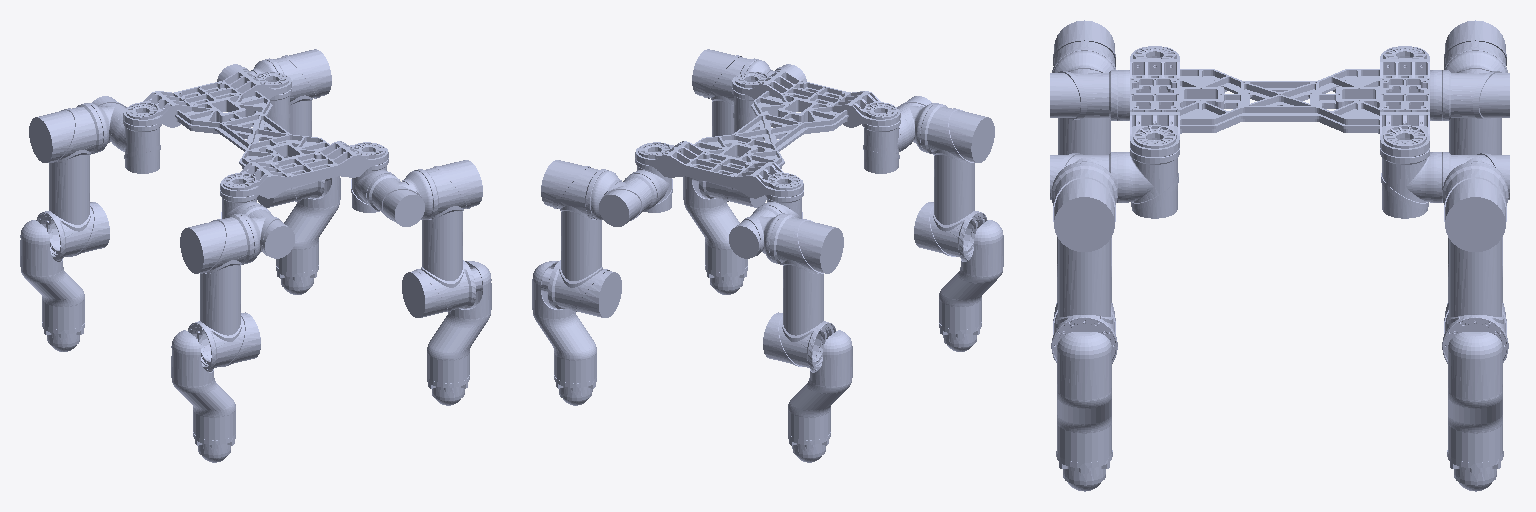
The robot description file, URDF, robot "quadruped126":
<robot
  name="quadruped126">
  <link
    name="base_link">
    <inertial>
      <origin
        xyz="8.0205569429892E-06 5.26164614779445E-06 -0.0117536741870582"
        rpy="0 0 0" />
      <mass
        value="1.0967850842884" />
      <inertia
        ixx="0.03222337128397"
        ixy="6.95895978629379E-07"
        ixz="2.73640904079557E-08"
        iyy="0.00867472819211394"
        iyz="1.20297090374644E-07"
        izz="0.0407340457914462" />
    </inertial>
    <visual>
      <origin
        xyz="0 0 0"
        rpy="0 0 0" />
      <geometry>
        <mesh
          filename="package://quadruped126/meshes/base_link.STL" />
      </geometry>
      <material
        name="">
        <color
          rgba="0.792156862745098 0.819607843137255 0.933333333333333 1" />
      </material>
    </visual>
    <collision>
      <origin
        xyz="0 0 0"
        rpy="0 0 0" />
      <geometry>
        <mesh
          filename="package://quadruped126/meshes/base_link.STL" />
      </geometry>
    </collision>
  </link>
  <link
    name="leg1_1">
    <inertial>
      <origin
        xyz="-9.23209685999016E-06 -0.0110295937744908 0.00343371107754448"
        rpy="0 0 0" />
      <mass
        value="0.136916843168961" />
      <inertia
        ixx="0.000229388412602637"
        ixy="-3.46718755959948E-08"
        ixz="-4.50241112988627E-09"
        iyy="0.000216643146747715"
        iyz="-6.85902650915644E-06"
        izz="0.000193488021134694" />
    </inertial>
    <visual>
      <origin
        xyz="0 0 0"
        rpy="0 0 0" />
      <geometry>
        <mesh
          filename="package://quadruped126/meshes/leg1_1.STL" />
      </geometry>
      <material
        name="">
        <color
          rgba="0.792156862745098 0.819607843137255 0.933333333333333 1" />
      </material>
    </visual>
    <collision>
      <origin
        xyz="0 0 0"
        rpy="0 0 0" />
      <geometry>
        <mesh
          filename="package://quadruped126/meshes/leg1_1.STL" />
      </geometry>
    </collision>
  </link>
  <joint
    name="leg1_1_joint"
    type="revolute">
    <origin
      xyz="0.155 -0.2 -0.0745"
      rpy="-4.6415388888942E-32 -8.28607345441151E-17 5.60161446121751E-16" />
    <parent
      link="base_link" />
    <child
      link="leg1_1" />
    <axis
      xyz="0 0 1" />
  </joint>
  <link
    name="leg1_2">
    <inertial>
      <origin
        xyz="0.0117973861206457 1.03683017630835E-05 0.109124835353205"
        rpy="0 0 0" />
      <mass
        value="0.139285865723" />
      <inertia
        ixx="0.000230964268899526"
        ixy="-3.48586088604811E-08"
        ixz="-7.22110905522625E-06"
        iyy="0.000240608976769206"
        iyz="-6.60780844287011E-09"
        izz="0.000204330642068317" />
    </inertial>
    <visual>
      <origin
        xyz="0 0 0"
        rpy="0 0 0" />
      <geometry>
        <mesh
          filename="package://quadruped126/meshes/leg1_2.STL" />
      </geometry>
      <material
        name="">
        <color
          rgba="0.792156862745098 0.819607843137255 0.933333333333333 1" />
      </material>
    </visual>
    <collision>
      <origin
        xyz="0 0 0"
        rpy="0 0 0" />
      <geometry>
        <mesh
          filename="package://quadruped126/meshes/leg1_2.STL" />
      </geometry>
    </collision>
  </link>
  <joint
    name="leg1_2_joint"
    type="revolute">
    <origin
      xyz="0 0 0"
      rpy="1.5707963267949 -1.90344085017298E-15 -1.55714409358079E-16" />
    <parent
      link="leg1_1" />
    <child
      link="leg1_2" />
    <axis
      xyz="0 0 -1" />
  </joint>
  <link
    name="leg1_3">
    <inertial>
      <origin
        xyz="-0.112501231278763 1.3272460803293E-05 0.110000027562196"
        rpy="0 0 0" />
      <mass
        value="0.422583469922345" />
      <inertia
        ixx="0.000984455636837673"
        ixy="-1.55958083220612E-08"
        ixz="3.442442696051E-05"
        iyy="0.00493486162041129"
        iyz="2.80759528073749E-09"
        izz="0.00483276076809413" />
    </inertial>
    <visual>
      <origin
        xyz="0 0 0"
        rpy="0 0 0" />
      <geometry>
        <mesh
          filename="package://quadruped126/meshes/leg1_3.STL" />
      </geometry>
      <material
        name="">
        <color
          rgba="0.792156862745098 0.819607843137255 0.933333333333333 1" />
      </material>
    </visual>
    <collision>
      <origin
        xyz="0 0 0"
        rpy="0 0 0" />
      <geometry>
        <mesh
          filename="package://quadruped126/meshes/leg1_3.STL" />
      </geometry>
    </collision>
  </link>
  <joint
    name="leg1_3_joint"
    type="revolute">
    <origin
      xyz="0 0 0.1125"
      rpy="1.5707963267949 2.61845052977631E-16 1.57079632679489" />
    <parent
      link="leg1_2" />
    <child
      link="leg1_3" />
    <axis
      xyz="0 0 -1" />
  </joint>
  <link
    name="leg1_4">
    <inertial>
      <origin
        xyz="0.144566617935957 -2.45928618913815E-07 0.037420492901852"
        rpy="0 0 0" />
      <mass
        value="0.418000056329837" />
      <inertia
        ixx="0.000786088948883853"
        ixy="-3.04294740643487E-09"
        ixz="0.00125672996610802"
        iyy="0.00467553600029081"
        iyz="-1.72935257188111E-09"
        izz="0.0042672560924322" />
    </inertial>
    <visual>
      <origin
        xyz="0 0 0"
        rpy="0 0 0" />
      <geometry>
        <mesh
          filename="package://quadruped126/meshes/leg1_4.STL" />
      </geometry>
      <material
        name="">
        <color
          rgba="0.792156862745098 0.819607843137255 0.933333333333333 1" />
      </material>
    </visual>
    <collision>
      <origin
        xyz="0 0 0"
        rpy="0 0 0" />
      <geometry>
        <mesh
          filename="package://quadruped126/meshes/leg1_4.STL" />
      </geometry>
    </collision>
  </link>
  <joint
    name="leg1_4_joint"
    type="revolute">
    <origin
      xyz="-0.225 0 0.11"
      rpy="3.10765853089466E-16 0 3.14159265358979" />
    <parent
      link="leg1_3" />
    <child
      link="leg1_4" />
    <axis
      xyz="0 0 -1" />
  </joint>
  <link
    name="leg2-1">
    <inertial>
      <origin
        xyz="-9.23248238222929E-06 -0.0110295936183098 0.00343371080325661"
        rpy="0 0 0" />
      <mass
        value="0.136916844125613" />
      <inertia
        ixx="0.000229388410138031"
        ixy="-3.46713291307469E-08"
        ixz="-4.5035212742197E-09"
        iyy="0.000216643147863652"
        iyz="-6.85902749279484E-06"
        izz="0.000193488023621699" />
    </inertial>
    <visual>
      <origin
        xyz="0 0 0"
        rpy="0 0 0" />
      <geometry>
        <mesh
          filename="package://quadruped126/meshes/leg2-1.STL" />
      </geometry>
      <material
        name="">
        <color
          rgba="0.792156862745098 0.819607843137255 0.933333333333333 1" />
      </material>
    </visual>
    <collision>
      <origin
        xyz="0 0 0"
        rpy="0 0 0" />
      <geometry>
        <mesh
          filename="package://quadruped126/meshes/leg2-1.STL" />
      </geometry>
    </collision>
  </link>
  <joint
    name="leg2-1_joint"
    type="revolute">
    <origin
      xyz="-0.155 -0.2 -0.0745"
      rpy="2.09476042382105E-15 -8.28607345441156E-17 3.40397411368685E-16" />
    <parent
      link="base_link" />
    <child
      link="leg2-1" />
    <axis
      xyz="0 0 1" />
  </joint>
  <link
    name="leg2_2">
    <inertial>
      <origin
        xyz="-0.0117973861206455 -1.03683017630002E-05 0.109124835353205"
        rpy="0 0 0" />
      <mass
        value="0.139285865722999" />
      <inertia
        ixx="0.000230964268899525"
        ixy="-3.48586088603628E-08"
        ixz="7.2211090552262E-06"
        iyy="0.000240608976769204"
        iyz="6.60780844308423E-09"
        izz="0.000204330642068317" />
    </inertial>
    <visual>
      <origin
        xyz="0 0 0"
        rpy="0 0 0" />
      <geometry>
        <mesh
          filename="package://quadruped126/meshes/leg2_2.STL" />
      </geometry>
      <material
        name="">
        <color
          rgba="0.792156862745098 0.819607843137255 0.933333333333333 1" />
      </material>
    </visual>
    <collision>
      <origin
        xyz="0 0 0"
        rpy="0 0 0" />
      <geometry>
        <mesh
          filename="package://quadruped126/meshes/leg2_2.STL" />
      </geometry>
    </collision>
  </link>
  <joint
    name="leg2_2_joint"
    type="revolute">
    <origin
      xyz="0 0 0"
      rpy="1.5707963267949 0 1.0825960457001E-45" />
    <parent
      link="leg2-1" />
    <child
      link="leg2_2" />
    <axis
      xyz="0 0 -1" />
  </joint>
  <link
    name="leg2-3">
    <inertial>
      <origin
        xyz="0.112501231278765 -1.32724608035706E-05 0.110000027562196"
        rpy="0 0 0" />
      <mass
        value="0.422583469922353" />
      <inertia
        ixx="0.000984455636837685"
        ixy="-1.55958083378792E-08"
        ixz="-3.44244269604749E-05"
        iyy="0.00493486162041133"
        iyz="-2.80759527850035E-09"
        izz="0.00483276076809417" />
    </inertial>
    <visual>
      <origin
        xyz="0 0 0"
        rpy="0 0 0" />
      <geometry>
        <mesh
          filename="package://quadruped126/meshes/leg2-3.STL" />
      </geometry>
      <material
        name="">
        <color
          rgba="0.792156862745098 0.819607843137255 0.933333333333333 1" />
      </material>
    </visual>
    <collision>
      <origin
        xyz="0 0 0"
        rpy="0 0 0" />
      <geometry>
        <mesh
          filename="package://quadruped126/meshes/leg2-3.STL" />
      </geometry>
    </collision>
  </link>
  <joint
    name="leg2-3_joint"
    type="revolute">
    <origin
      xyz="0 0 0.1125"
      rpy="1.5707963267949 0 -1.5707963267949" />
    <parent
      link="leg2_2" />
    <child
      link="leg2-3" />
    <axis
      xyz="0 0 1" />
  </joint>
  <link
    name="leg2_4">
    <inertial>
      <origin
        xyz="0.144566617935963 -2.44398294269033E-07 0.0374204929051556"
        rpy="0 0 0" />
      <mass
        value="0.418000056329822" />
      <inertia
        ixx="0.00078609019228573"
        ixy="-3.04294738799536E-09"
        ixz="0.00125672996629427"
        iyy="0.00467553724369218"
        iyz="-1.72935126317538E-09"
        izz="0.00426725609243169" />
    </inertial>
    <visual>
      <origin
        xyz="0 0 0"
        rpy="0 0 0" />
      <geometry>
        <mesh
          filename="package://quadruped126/meshes/leg2_4.STL" />
      </geometry>
      <material
        name="">
        <color
          rgba="0.792156862745098 0.819607843137255 0.933333333333333 1" />
      </material>
    </visual>
    <collision>
      <origin
        xyz="0 0 0"
        rpy="0 0 0" />
      <geometry>
        <mesh
          filename="package://quadruped126/meshes/leg2_4.STL" />
      </geometry>
    </collision>
  </link>
  <joint
    name="leg2_4_joint"
    type="revolute">
    <origin
      xyz="0.225000000000001 0 0.109999999999998"
      rpy="0 7.75640276008131E-15 4.93432455388956E-16" />
    <parent
      link="leg2-3" />
    <child
      link="leg2_4" />
    <axis
      xyz="0 0 1" />
  </joint>
  <link
    name="leg3-1">
    <inertial>
      <origin
        xyz="9.23248237999497E-06 0.011029593618306 0.00343371080325942"
        rpy="0 0 0" />
      <mass
        value="0.13691684412558" />
      <inertia
        ixx="0.000229388410137999"
        ixy="-3.46713291271145E-08"
        ixz="4.50352127065379E-09"
        iyy="0.000216643147863624"
        iyz="6.85902749278864E-06"
        izz="0.000193488023621686" />
    </inertial>
    <visual>
      <origin
        xyz="0 0 0"
        rpy="0 0 0" />
      <geometry>
        <mesh
          filename="package://quadruped126/meshes/leg3-1.STL" />
      </geometry>
      <material
        name="">
        <color
          rgba="0.792156862745098 0.819607843137255 0.933333333333333 1" />
      </material>
    </visual>
    <collision>
      <origin
        xyz="0 0 0"
        rpy="0 0 0" />
      <geometry>
        <mesh
          filename="package://quadruped126/meshes/leg3-1.STL" />
      </geometry>
    </collision>
  </link>
  <joint
    name="leg3-1"
    type="revolute">
    <origin
      xyz="0.155 0.2 -0.0745"
      rpy="-1.16620065611886E-16 -8.28607345441151E-17 9.36811836742057E-17" />
    <parent
      link="base_link" />
    <child
      link="leg3-1" />
    <axis
      xyz="0 0 1" />
  </joint>
  <link
    name="leg3_2">
    <inertial>
      <origin
        xyz="-0.0117973861206462 -1.03683017630557E-05 0.109124835353205"
        rpy="0 0 0" />
      <mass
        value="0.139285865723005" />
      <inertia
        ixx="0.000230964268899531"
        ixy="-3.48586088600831E-08"
        ixz="7.22110905522496E-06"
        iyy="0.00024060897676921"
        iyz="6.60780844237386E-09"
        izz="0.000204330642068321" />
    </inertial>
    <visual>
      <origin
        xyz="0 0 0"
        rpy="0 0 0" />
      <geometry>
        <mesh
          filename="package://quadruped126/meshes/leg3_2.STL" />
      </geometry>
      <material
        name="">
        <color
          rgba="0.792156862745098 0.819607843137255 0.933333333333333 1" />
      </material>
    </visual>
    <collision>
      <origin
        xyz="0 0 0"
        rpy="0 0 0" />
      <geometry>
        <mesh
          filename="package://quadruped126/meshes/leg3_2.STL" />
      </geometry>
    </collision>
  </link>
  <joint
    name="leg3_2_joint"
    type="revolute">
    <origin
      xyz="0 0 0"
      rpy="1.5707963267949 0 3.14159265358979" />
    <parent
      link="leg3-1" />
    <child
      link="leg3_2" />
    <axis
      xyz="0 0 1" />
  </joint>
  <link
    name="leg3_3">
    <inertial>
      <origin
        xyz="0.112501231278764 -1.32724608037926E-05 0.110000027562196"
        rpy="0 0 0" />
      <mass
        value="0.422583469922348" />
      <inertia
        ixx="0.00098445563683767"
        ixy="-1.55958083335526E-08"
        ixz="-3.44244269604997E-05"
        iyy="0.00493486162041129"
        iyz="-2.80759527738509E-09"
        izz="0.00483276076809414" />
    </inertial>
    <visual>
      <origin
        xyz="0 0 0"
        rpy="0 0 0" />
      <geometry>
        <mesh
          filename="package://quadruped126/meshes/leg3_3.STL" />
      </geometry>
      <material
        name="">
        <color
          rgba="0.792156862745098 0.819607843137255 0.933333333333333 1" />
      </material>
    </visual>
    <collision>
      <origin
        xyz="0 0 0"
        rpy="0 0 0" />
      <geometry>
        <mesh
          filename="package://quadruped126/meshes/leg3_3.STL" />
      </geometry>
    </collision>
  </link>
  <joint
    name="leg3_3_joint"
    type="revolute">
    <origin
      xyz="0 0 0.1125"
      rpy="1.5707963267949 3.58579558626701E-16 -1.5707963267949" />
    <parent
      link="leg3_2" />
    <child
      link="leg3_3" />
    <axis
      xyz="0 0 -1" />
  </joint>
  <link
    name="leg3_4">
    <inertial>
      <origin
        xyz="0.14456661793596 -2.44398295157211E-07 0.0374204929107662"
        rpy="0 0 0" />
      <mass
        value="0.418000056329828" />
      <inertia
        ixx="0.000786091475635316"
        ixy="-3.04294744713543E-09"
        ixz="0.00125672996667006"
        iyy="0.00467553852704197"
        iyz="-1.72932822876566E-09"
        izz="0.00426725609243189" />
    </inertial>
    <visual>
      <origin
        xyz="0 0 0"
        rpy="0 0 0" />
      <geometry>
        <mesh
          filename="package://quadruped126/meshes/leg3_4.STL" />
      </geometry>
      <material
        name="">
        <color
          rgba="0.792156862745098 0.819607843137255 0.933333333333333 1" />
      </material>
    </visual>
    <collision>
      <origin
        xyz="0 0 0"
        rpy="0 0 0" />
      <geometry>
        <mesh
          filename="package://quadruped126/meshes/leg3_4.STL" />
      </geometry>
    </collision>
  </link>
  <joint
    name="leg3_4_joint"
    type="revolute">
    <origin
      xyz="0.225000000000001 0 0.11"
      rpy="1.4688239001149E-30 -6.97984565407256E-46 4.75199624238587E-16" />
    <parent
      link="leg3_3" />
    <child
      link="leg3_4" />
    <axis
      xyz="0 0 -1" />
  </joint>
  <link
    name="leg4-1">
    <inertial>
      <origin
        xyz="9.23248238214602E-06 0.0110295936183097 0.00343371080325674"
        rpy="0 0 0" />
      <mass
        value="0.136916844125614" />
      <inertia
        ixx="0.000229388410138032"
        ixy="-3.46713291306506E-08"
        ixz="4.50352127349385E-09"
        iyy="0.000216643147863653"
        iyz="6.85902749279376E-06"
        izz="0.000193488023621699" />
    </inertial>
    <visual>
      <origin
        xyz="0 0 0"
        rpy="0 0 0" />
      <geometry>
        <mesh
          filename="package://quadruped126/meshes/leg4-1.STL" />
      </geometry>
      <material
        name="">
        <color
          rgba="0.792156862745098 0.819607843137255 0.933333333333333 1" />
      </material>
    </visual>
    <collision>
      <origin
        xyz="0 0 0"
        rpy="0 0 0" />
      <geometry>
        <mesh
          filename="package://quadruped126/meshes/leg4-1.STL" />
      </geometry>
    </collision>
  </link>
  <joint
    name="leg4_1_joint"
    type="revolute">
    <origin
      xyz="-0.155 0.2 -0.0745"
      rpy="3.94745964311166E-15 -8.28607345441151E-17 9.36811836742057E-17" />
    <parent
      link="base_link" />
    <child
      link="leg4-1" />
    <axis
      xyz="0 0 1" />
  </joint>
  <link
    name="leg4_2">
    <inertial>
      <origin
        xyz="0.0117973861206458 1.03683017626879E-05 0.109124835353205"
        rpy="0 0 0" />
      <mass
        value="0.139285865723001" />
      <inertia
        ixx="0.000230964268899528"
        ixy="-3.48586088605111E-08"
        ixz="-7.22110905522453E-06"
        iyy="0.000240608976769207"
        iyz="-6.6078084421721E-09"
        izz="0.000204330642068317" />
    </inertial>
    <visual>
      <origin
        xyz="0 0 0"
        rpy="0 0 0" />
      <geometry>
        <mesh
          filename="package://quadruped126/meshes/leg4_2.STL" />
      </geometry>
      <material
        name="">
        <color
          rgba="0.792156862745098 0.819607843137255 0.933333333333333 1" />
      </material>
    </visual>
    <collision>
      <origin
        xyz="0 0 0"
        rpy="0 0 0" />
      <geometry>
        <mesh
          filename="package://quadruped126/meshes/leg4_2.STL" />
      </geometry>
    </collision>
  </link>
  <joint
    name="leg4_2_joint"
    type="revolute">
    <origin
      xyz="0 0 0"
      rpy="1.5707963267949 -4.41565975703188E-15 3.14159265358979" />
    <parent
      link="leg4-1" />
    <child
      link="leg4_2" />
    <axis
      xyz="0 0 1" />
  </joint>
  <link
    name="leg4_3">
    <inertial>
      <origin
        xyz="-0.112501231278764 1.3272460803071E-05 0.110000027562197"
        rpy="0 0 0" />
      <mass
        value="0.422583469922347" />
      <inertia
        ixx="0.000984455636837671"
        ixy="-1.55958083341559E-08"
        ixz="3.44244269605011E-05"
        iyy="0.00493486162041129"
        iyz="2.80759527783412E-09"
        izz="0.00483276076809414" />
    </inertial>
    <visual>
      <origin
        xyz="0 0 0"
        rpy="0 0 0" />
      <geometry>
        <mesh
          filename="package://quadruped126/meshes/leg4_3.STL" />
      </geometry>
      <material
        name="">
        <color
          rgba="0.792156862745098 0.819607843137255 0.933333333333333 1" />
      </material>
    </visual>
    <collision>
      <origin
        xyz="0 0 0"
        rpy="0 0 0" />
      <geometry>
        <mesh
          filename="package://quadruped126/meshes/leg4_3.STL" />
      </geometry>
    </collision>
  </link>
  <joint
    name="leg4_3_joint"
    type="revolute">
    <origin
      xyz="0 0 0.1125"
      rpy="1.5707963267949 -3.4237695371564E-15 1.57079632679489" />
    <parent
      link="leg4_2" />
    <child
      link="leg4_3" />
    <axis
      xyz="0 0 1" />
  </joint>
  <link
    name="leg4-4">
    <inertial>
      <origin
        xyz="0.144566617935977 -2.44398293214321E-07 0.0374204928991427"
        rpy="0 0 0" />
      <mass
        value="0.418000056329786" />
      <inertia
        ixx="0.000786089670519371"
        ixy="-3.04294735944315E-09"
        ixz="0.00125672996604183"
        iyy="0.00467553672192506"
        iyz="-1.72945349282626E-09"
        izz="0.00426725609243092" />
    </inertial>
    <visual>
      <origin
        xyz="0 0 0"
        rpy="0 0 0" />
      <geometry>
        <mesh
          filename="package://quadruped126/meshes/leg4-4.STL" />
      </geometry>
      <material
        name="">
        <color
          rgba="0.792156862745098 0.819607843137255 0.933333333333333 1" />
      </material>
    </visual>
    <collision>
      <origin
        xyz="0 0 0"
        rpy="0 0 0" />
      <geometry>
        <mesh
          filename="package://quadruped126/meshes/leg4-4.STL" />
      </geometry>
    </collision>
  </link>
  <joint
    name="leg4-4-joint"
    type="revolute">
    <origin
      xyz="-0.225000000000001 0 0.11"
      rpy="-2.31243732602241E-30 -2.46716227694479E-16 -3.14159265358979" />
    <parent
      link="leg4_3" />
    <child
      link="leg4-4" />
    <axis
      xyz="0 0 1" />
  </joint>
</robot>

--- Facts derived from the render (not from the file) ---
Views: 3 orthographic renders of the robot side by side, from view 1: azimuth 30°, elevation 25°; view 2: azimuth 150°, elevation 25°; view 3: azimuth 270°, elevation 25°.
Robot: quadruped126 — 17 links, 16 joints (16 revolute); root link base_link; default pose: every joint at zero.
Links seen in each view (by area): view 1: base_link, leg4_3, leg2-3, leg1_3, leg4-4, leg2_4, leg1_4, leg3_4, leg3_3, leg1_2, leg4-1, leg2_2 (+4 smaller); view 2: base_link, leg2-3, leg4_3, leg3_3, leg2_4, leg4-4, leg3_4, leg1_4, leg1_3, leg3_2, leg2-1, leg4_2 (+4 smaller); view 3: base_link, leg3_3, leg1_3, leg1_4, leg3_4, leg4_2, leg2_2, leg2-3, leg4_3, leg3-1, leg1_1, leg1_2 (+3 smaller).
Boxes of the visible links, left/top/right/bottom form: base_link: left=123, top=70, right=388, bottom=198; leg4_3: left=29, top=103, right=109, bottom=260; leg2-3: left=180, top=214, right=260, bottom=371; leg1_3: left=402, top=160, right=482, bottom=317; leg4-4: left=20, top=220, right=84, bottom=351; leg2_4: left=171, top=330, right=235, bottom=462; leg1_4: left=427, top=261, right=491, bottom=405; leg3_4: left=276, top=176, right=340, bottom=294; leg3_3: left=257, top=49, right=331, bottom=207; leg1_2: left=367, top=171, right=432, bottom=226; leg4-1: left=111, top=111, right=161, bottom=173; leg2_2: left=239, top=205, right=294, bottom=262; base_link: left=635, top=70, right=900, bottom=198; leg2-3: left=914, top=103, right=994, bottom=260; leg4_3: left=763, top=214, right=843, bottom=371; leg3_3: left=541, top=160, right=621, bottom=317; leg2_4: left=939, top=220, right=1003, bottom=351; leg4-4: left=788, top=330, right=852, bottom=462; leg3_4: left=532, top=261, right=596, bottom=405; leg1_4: left=683, top=176, right=747, bottom=294; leg1_3: left=692, top=49, right=766, bottom=207; leg3_2: left=591, top=171, right=656, bottom=226; leg2-1: left=862, top=111, right=912, bottom=173; leg4_2: left=729, top=205, right=784, bottom=262; base_link: left=1130, top=46, right=1429, bottom=156; leg3_3: left=1442, top=163, right=1508, bottom=363; leg1_3: left=1051, top=163, right=1117, bottom=363; leg1_4: left=1056, top=332, right=1112, bottom=491; leg3_4: left=1447, top=332, right=1503, bottom=491; leg4_2: left=1442, top=51, right=1509, bottom=120; leg2_2: left=1050, top=51, right=1117, bottom=120; leg2-3: left=1052, top=20, right=1115, bottom=154; leg4_3: left=1444, top=20, right=1507, bottom=154; leg3-1: left=1380, top=138, right=1441, bottom=218; leg1_1: left=1118, top=138, right=1179, bottom=218; leg1_2: left=1050, top=152, right=1117, bottom=202.
Size in the robot's own frame: 0.751 by 0.7367 by 0.58 metres.
17 mesh visuals loaded from 17 distinct referenced files (17 binary STL).